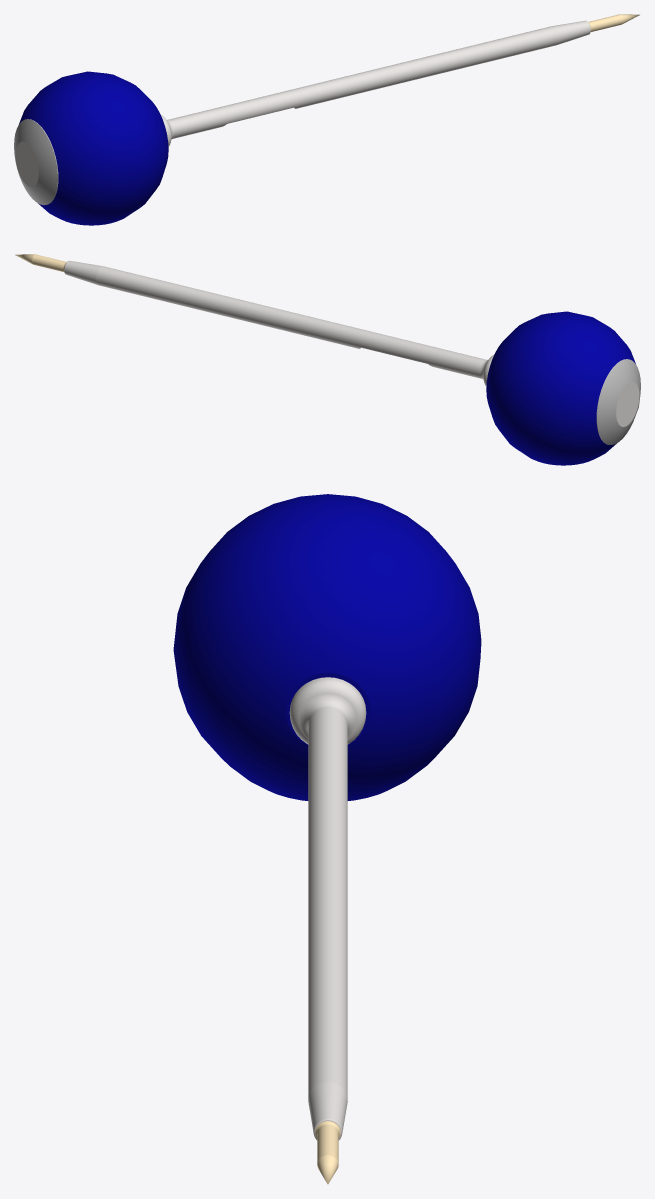
File: Andy - 01-0003P0_B.fbx
The picture shows the model from 3 angles, top to bottom: view 1: azimuth 30°, elevation 25°; view 2: azimuth 150°, elevation 25°; view 3: azimuth 270°, elevation 25°; orthographic projection. The views are drawn at different scales.
Parts seen in each view (by area): view 1: Object, Object.004, Object.005, Object.003; view 2: Object, Object.004, Object.005, Object.003; view 3: Object, Object.004, Object.003.
Part boxes in pixels (x1=…): Object: x1=19, y1=71, x2=168, y2=225; Object.004: x1=15, y1=20, x2=590, y2=202; Object.005: x1=14, y1=119, x2=57, y2=204; Object.003: x1=588, y1=14, x2=639, y2=31; Object: x1=486, y1=311, x2=635, y2=465; Object.004: x1=64, y1=260, x2=639, y2=442; Object.005: x1=597, y1=359, x2=640, y2=444; Object.003: x1=15, y1=254, x2=66, y2=271; Object: x1=173, y1=494, x2=481, y2=800; Object.004: x1=289, y1=677, x2=366, y2=1140; Object.003: x1=315, y1=1121, x2=340, y2=1184.
Size of the model in its own units: 23.3 by 4.76 by 5.06.
